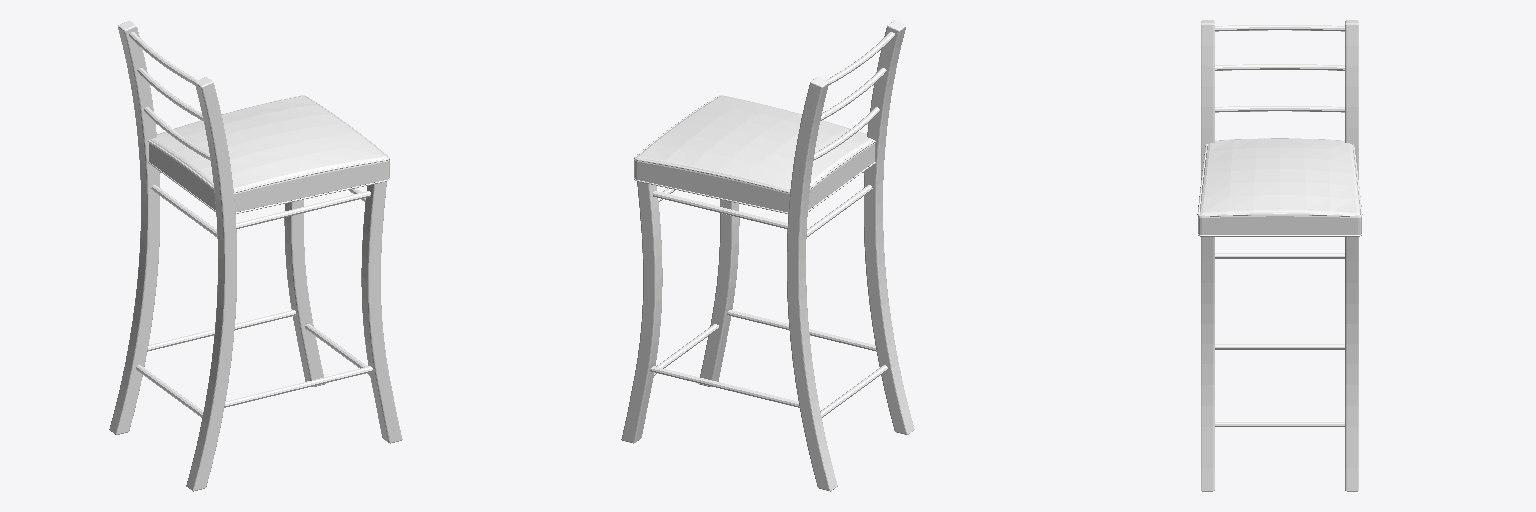
The robot description file, URDF, robot "chair":
<?xml version="1.0"?>
<robot name="chair">
  <link name="obstacle_base">
    <visual>
      <!--<origin xyz="-3.7 -3.1 0.01"/>--> <!-- for high_chair.dae -->
      <origin xyz="0 0 0"/>
      <geometry>
        <!--<mesh filename="package://iai_maps/meshes/high_chair.dae"/>-->
        <mesh filename="package://iai_maps/meshes/high_chair_placed.stl"/>
      </geometry>
      <material name="White">
		<color rgba="1 1 1 1"/>
	  </material>
    </visual>
	<collision>
      <origin xyz="0 0 0"/>
      <geometry>
        <mesh filename="package://iai_maps/meshes/high_chair_placed.stl"/>
      </geometry>
    </collision>
  </link>
</robot>

--- Render facts (derived) ---
3 views of the same robot in one strip: view 1: azimuth 30°, elevation 25°; view 2: azimuth 150°, elevation 25°; view 3: azimuth 270°, elevation 25° (orthographic).
Robot: chair — 1 links, 0 joints (none); root link obstacle_base; default pose: every joint at zero.
Visible links, largest first — view 1: obstacle_base; view 2: obstacle_base; view 3: obstacle_base.
Boxes of the visible links, left/top/right/bottom form: obstacle_base: left=109, top=20, right=402, bottom=491; obstacle_base: left=621, top=20, right=914, bottom=491; obstacle_base: left=1197, top=20, right=1362, bottom=491.
Bounding box of the posed robot: 0.4176 × 0.3025 × 0.771 m (x, y, z).
Meshes: 1 distinct files referenced, 1 mesh visuals loaded (1 binary STL).